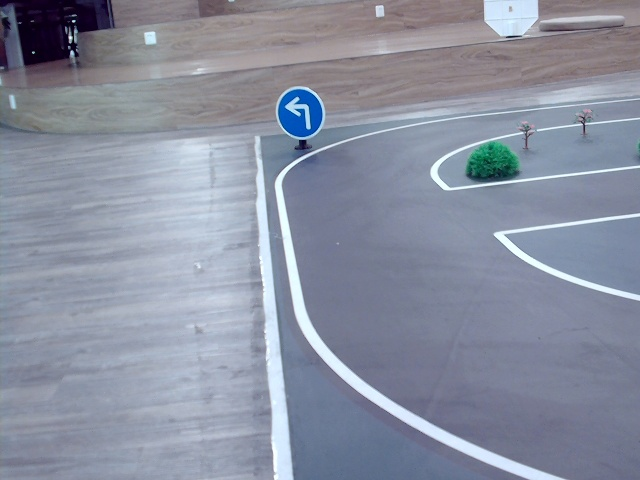turn_left: (284, 94, 313, 128)
